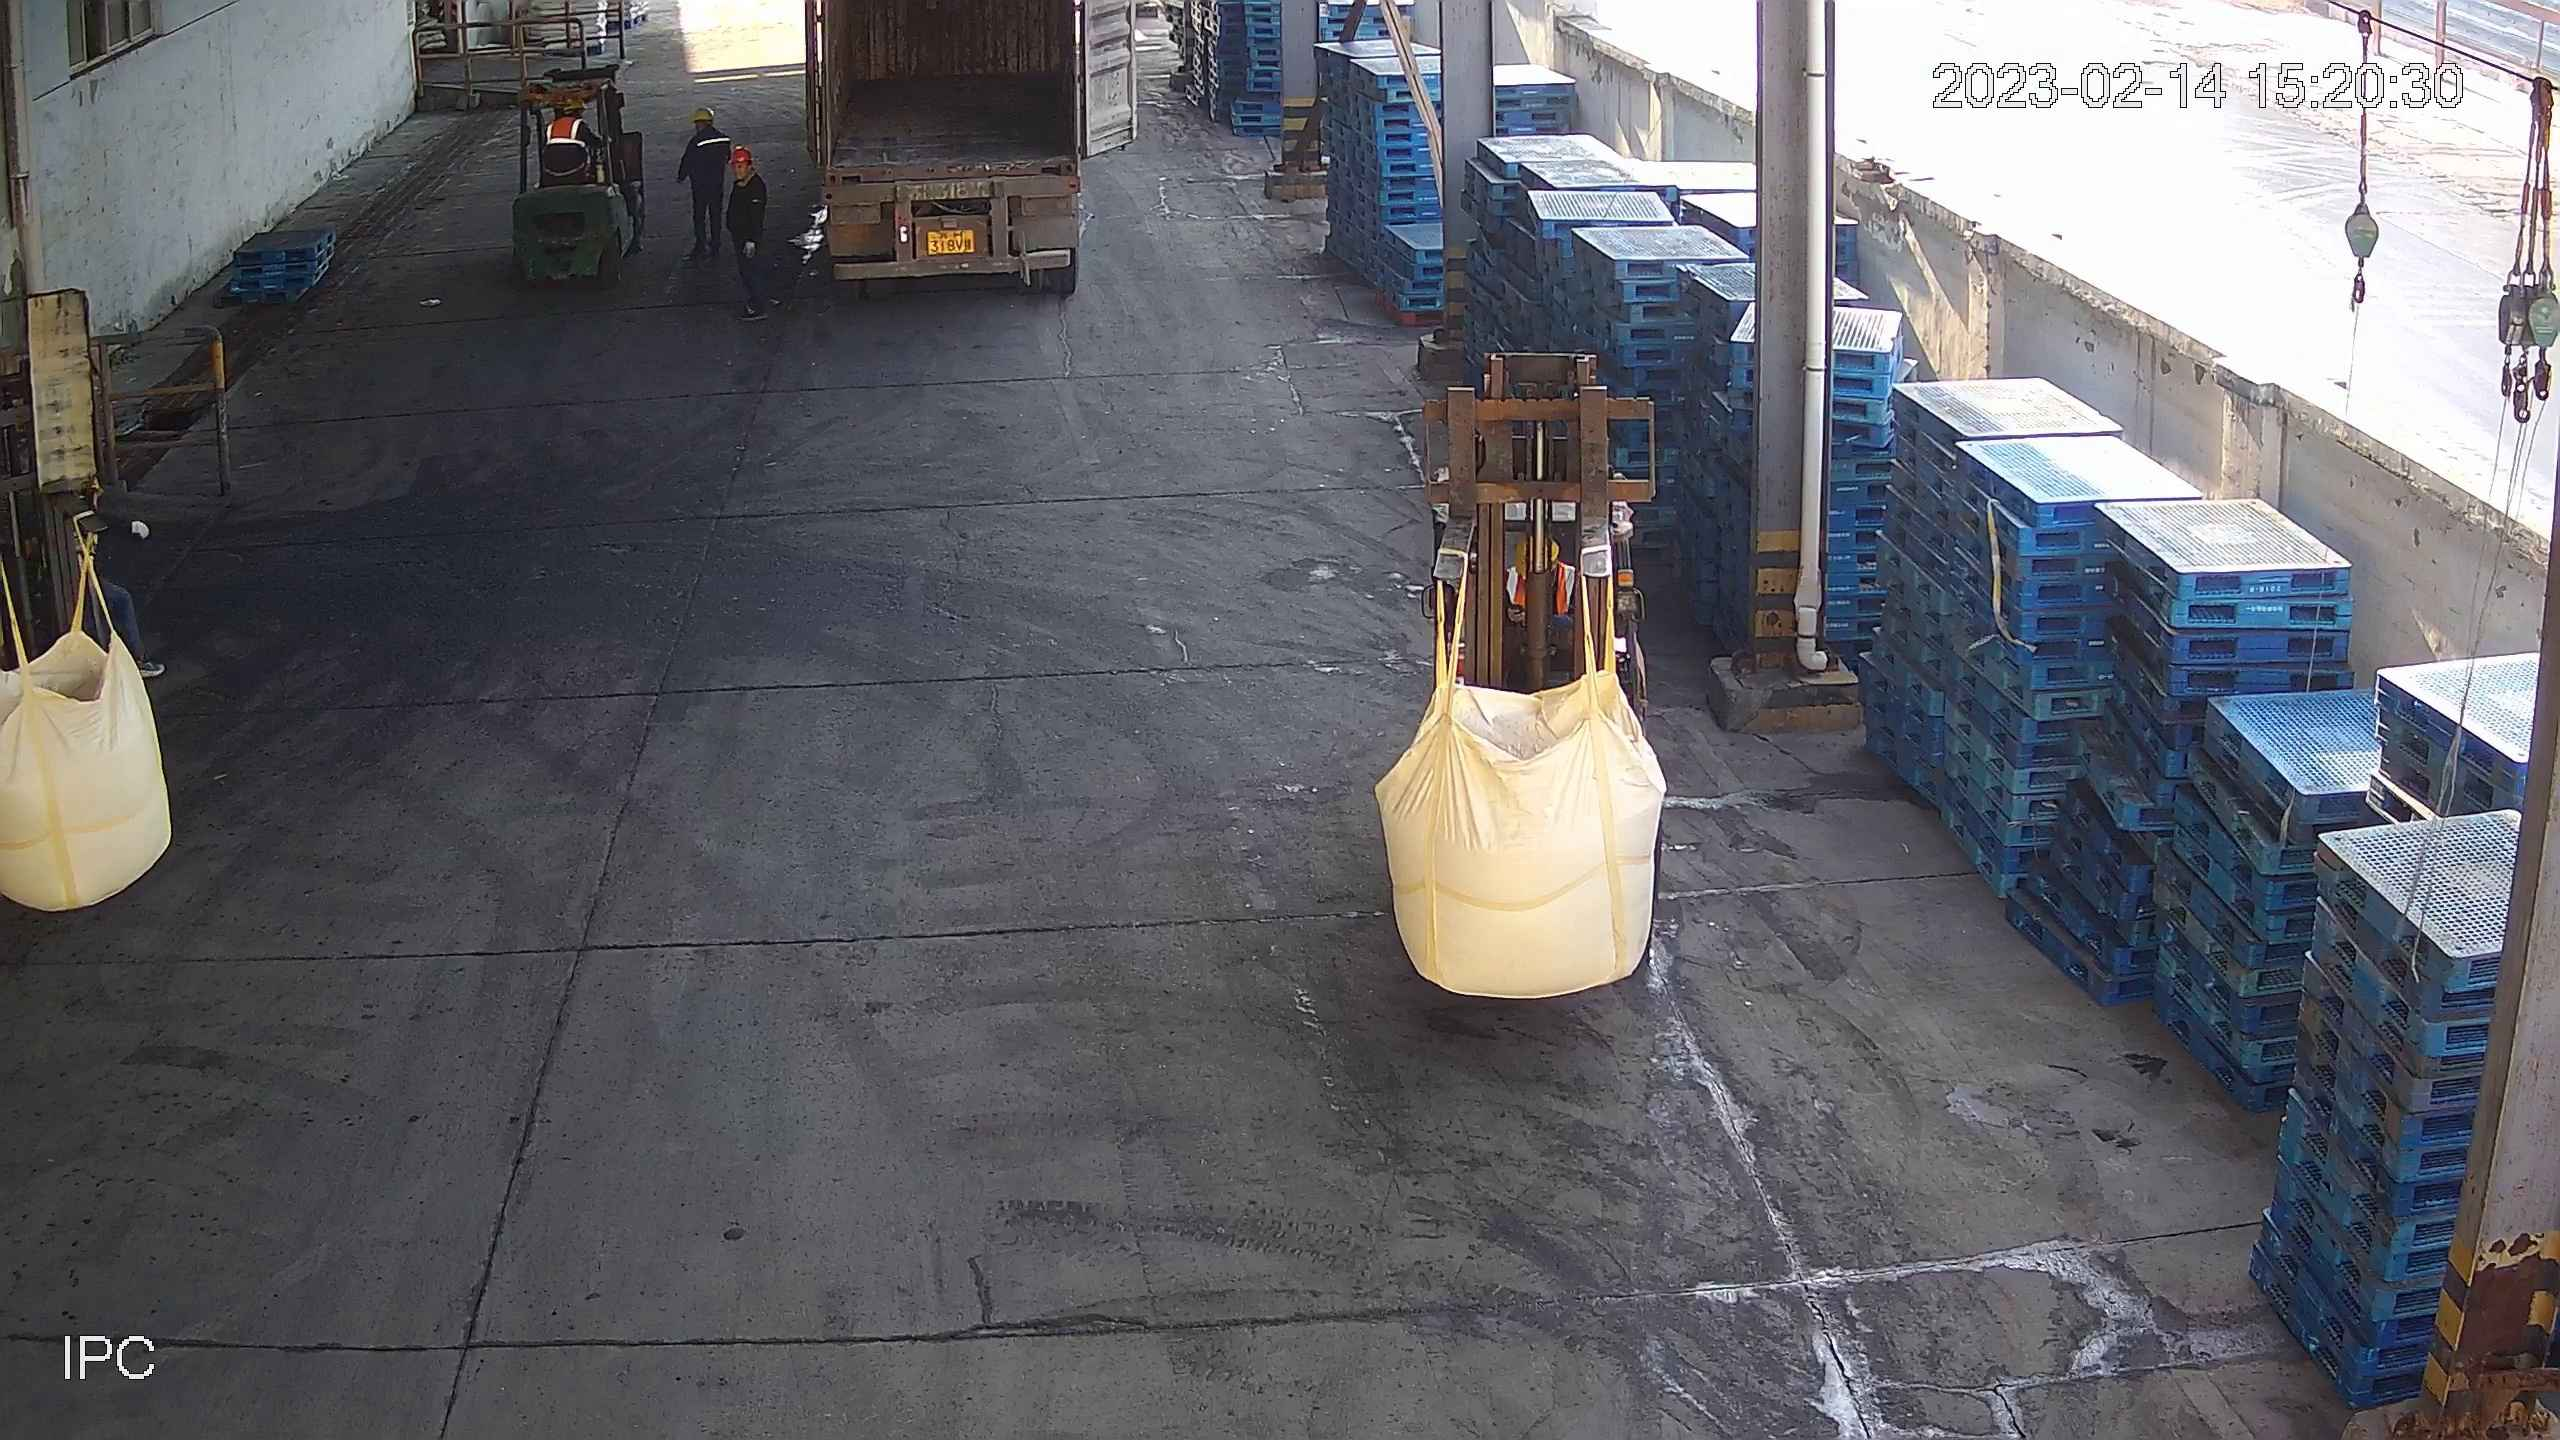head: (726, 143, 770, 194), (682, 109, 731, 147)
helmet: (730, 146, 755, 164), (691, 108, 715, 122)
people: (725, 144, 774, 325), (676, 107, 732, 262)
truck: (793, 1, 1099, 304)
